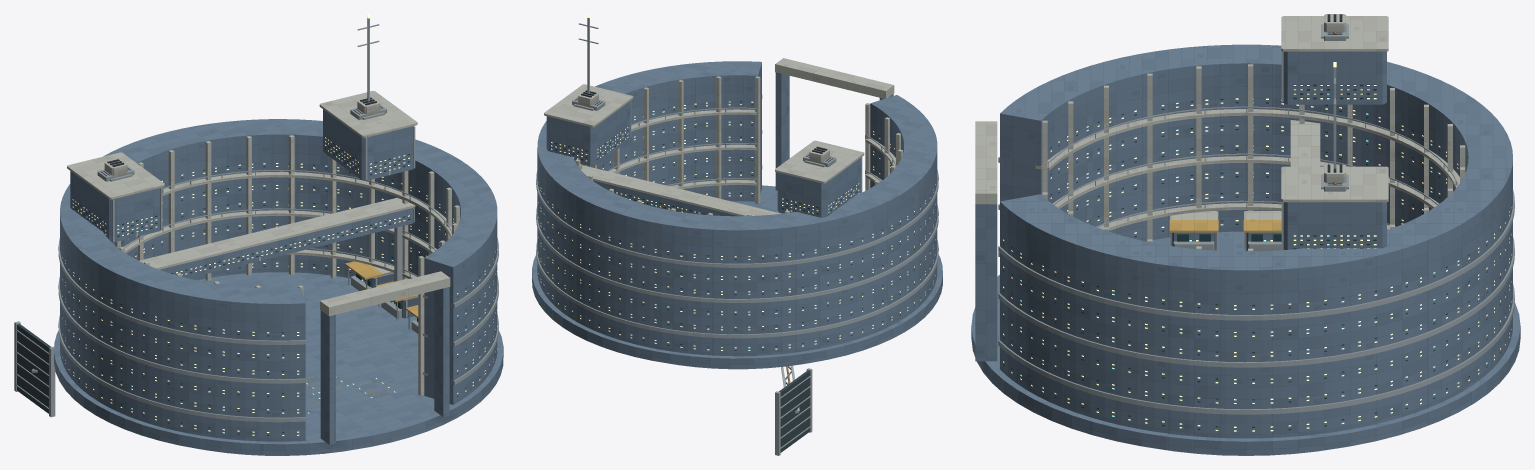
Rendered from haven.glb.
3 renders of one model, left to right at view 1: azimuth 30°, elevation 25°; view 2: azimuth 150°, elevation 25°; view 3: azimuth 270°, elevation 25°, orthographic. The views are drawn at different scales.
Parts seen in each view (by area): view 1: haven / hull, haven / armor, haven / metal, haven / radiator, haven / warm, haven / glass, haven / ochre, haven / dark; view 2: haven / hull, haven / armor, haven / metal, haven / radiator, haven / warm, haven / glass, haven / dark; view 3: haven / hull, haven / armor, haven / metal, haven / warm, haven / glass, haven / ochre, haven / dark.
Part boxes in pixels (x1,y1,x2,y2): haven / hull: (54,109,503,455); haven / armor: (67,91,459,395); haven / metal: (14,18,498,422); haven / radiator: (17,324,50,413); haven / warm: (62,14,497,435); haven / glass: (62,143,497,435); haven / ochre: (306,261,418,409); haven / dark: (72,97,410,302); haven / hull: (532,61,942,369); haven / armor: (544,58,902,216); haven / metal: (536,18,938,455); haven / radiator: (778,370,809,452); haven / warm: (538,14,935,350); haven / glass: (538,101,935,350); haven / dark: (550,90,858,216); haven / hull: (971,44,1520,455); haven / armor: (975,14,1465,251); haven / metal: (998,24,1514,414); haven / warm: (1003,62,1511,431); haven / glass: (1003,85,1511,430); haven / ochre: (1169,220,1281,232); haven / dark: (1189,14,1376,248).
Bounding box in the file's own units: 139 × 123 × 139.
Materials: 10 (4 with a texture image).
